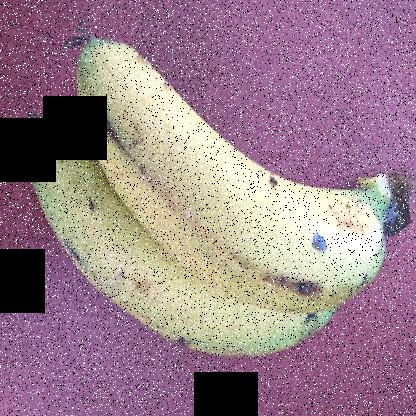ripe: (72, 22, 392, 292), (19, 109, 270, 380)
